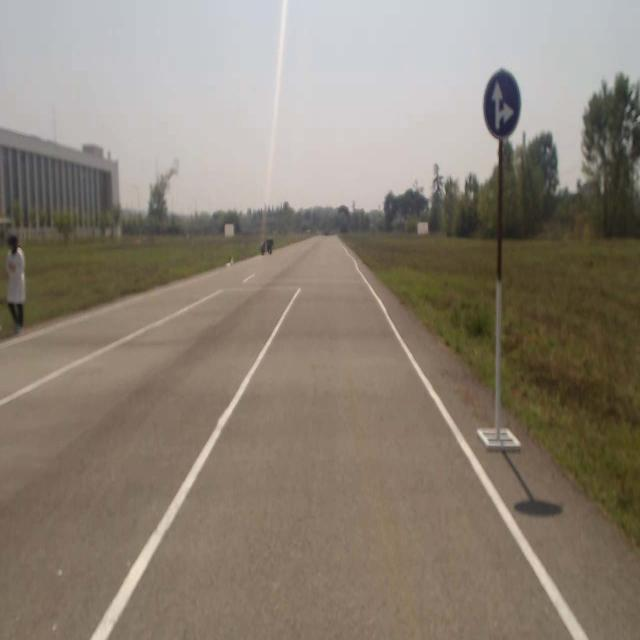ilerisag: (484, 69, 521, 137)
